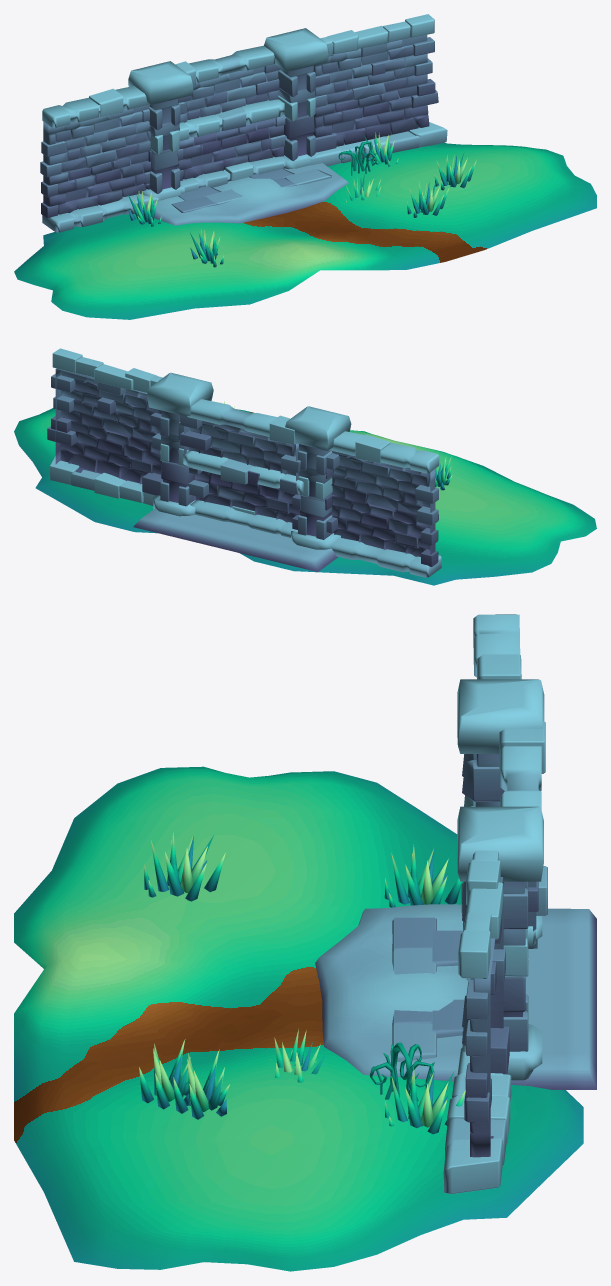
3 renders of one model, top to bottom at view 1: azimuth 30°, elevation 25°; view 2: azimuth 150°, elevation 25°; view 3: azimuth 270°, elevation 25°, orthographic. The views are drawn at different scales.
Visible parts, largest first — view 1: pPyramid129; view 2: pPyramid129; view 3: pPyramid129.
Part boxes in pixels (left/top/right/bottom): pPyramid129: left=14, top=14, right=596, bottom=319; pPyramid129: left=14, top=348, right=596, bottom=585; pPyramid129: left=14, top=614, right=596, bottom=1271.
Bounding box in the file's own units: 26.71 × 6.49 × 13.07.
